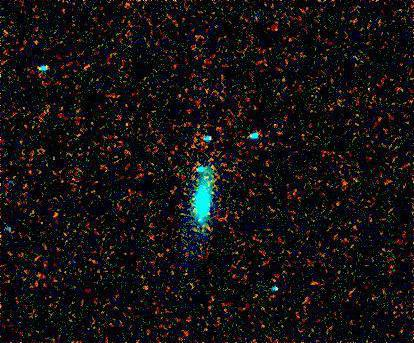star: (197, 178, 227, 208)
